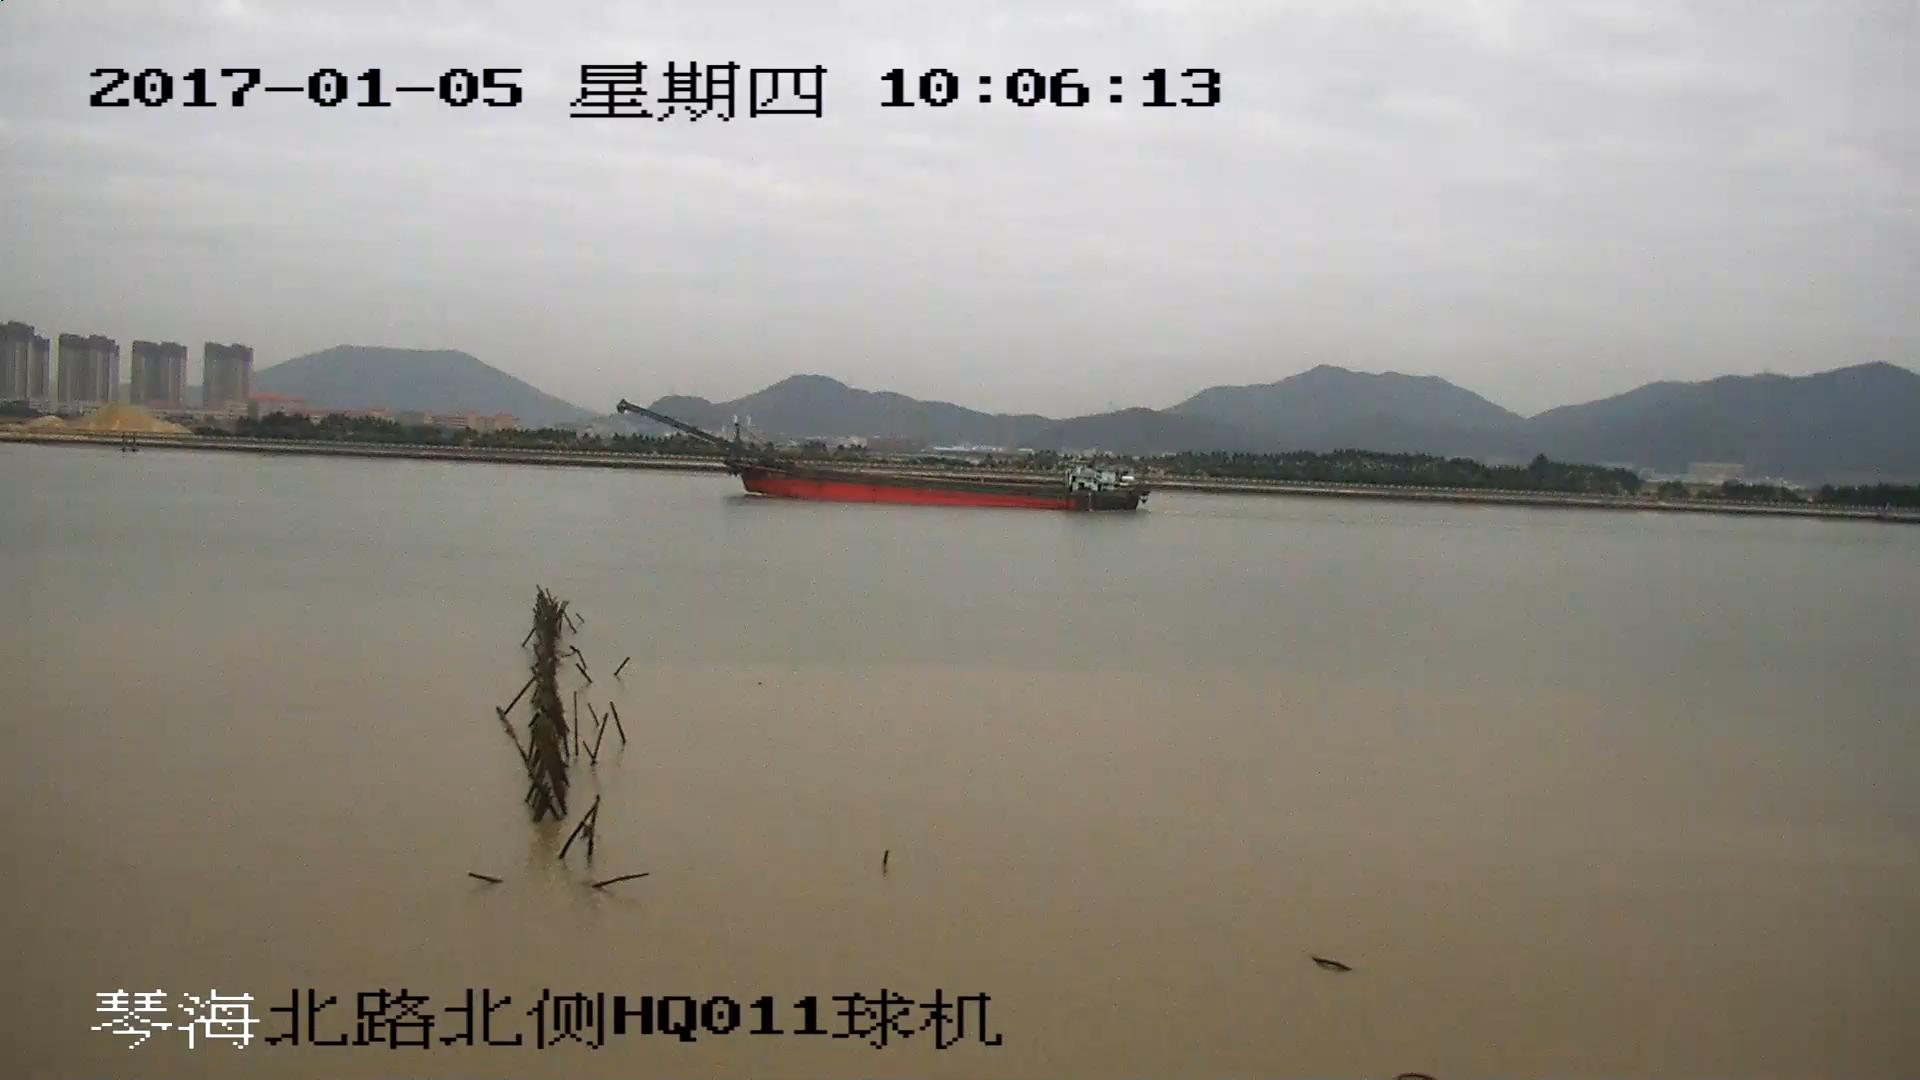bulk cargo carrier: (620, 404, 1150, 513)
